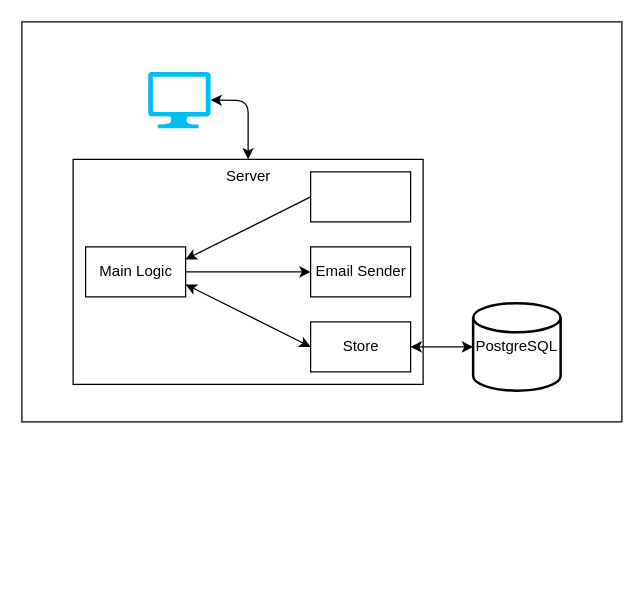
Some shapes in this 644 by 604 pixel diagram are drawn without their labels. Each missing label, with the box of its shape:
Client: (148, 71, 210, 128)
Price Getter: (309, 171, 411, 222)
